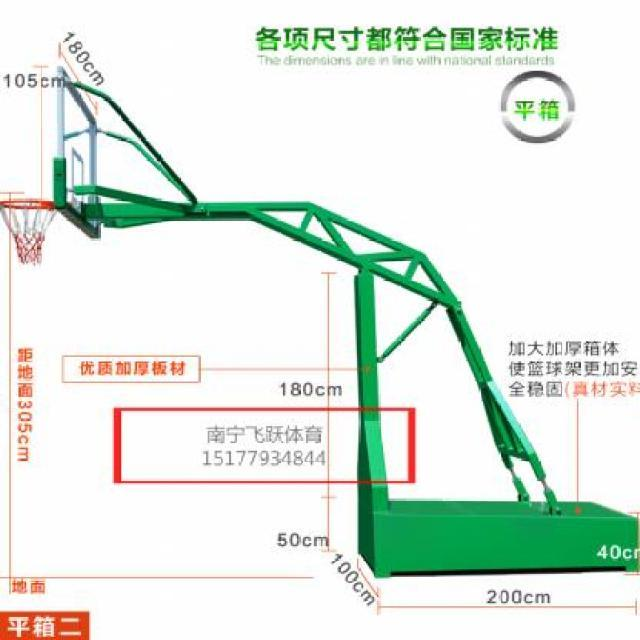rim: (0, 198, 58, 266)
